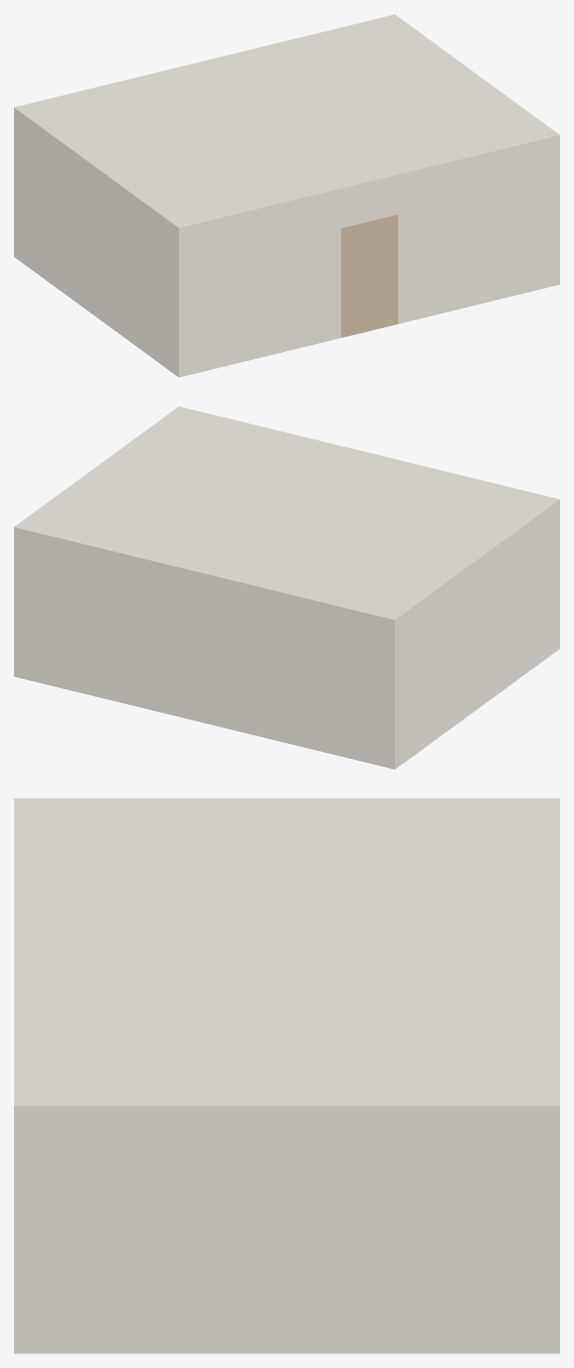
File: sala.glb
The picture shows the model from 3 angles, top to bottom: view 1: azimuth 30°, elevation 25°; view 2: azimuth 150°, elevation 25°; view 3: azimuth 270°, elevation 25°; orthographic projection. The views are drawn at different scales.
Parts seen in each view (by area): view 1: paredes, suelo; view 2: paredes; view 3: paredes.
Boxes of the visible parts, <box> form: paredes: <box>14,14,559,377</box>; suelo: <box>341,214,397,337</box>; paredes: <box>14,406,559,769</box>; paredes: <box>14,798,559,1353</box>.
Size of the model in its own units: 8 by 3 by 6.
